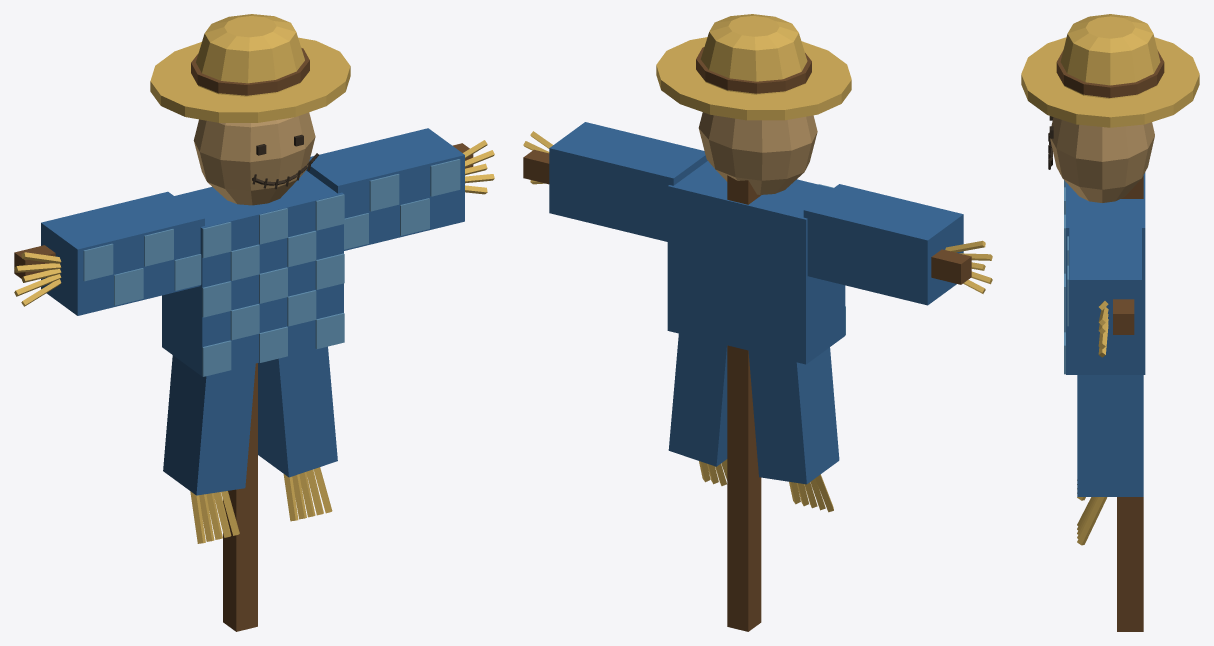
File: scarecrow.glb
The picture shows the model from 3 angles, left to right: view 1: azimuth 30°, elevation 25°; view 2: azimuth 150°, elevation 25°; view 3: azimuth 270°, elevation 25°; orthographic projection. The views are drawn at different scales.
Visible parts, largest first — view 1: body; view 2: body; view 3: body.
Boxes of the visible parts, left/top/right/bottom form: body: left=14, top=14, right=494, bottom=631; body: left=523, top=14, right=992, bottom=631; body: left=1021, top=14, right=1199, bottom=631.
Size of the model in its own units: 1.65 by 2 by 0.54.
